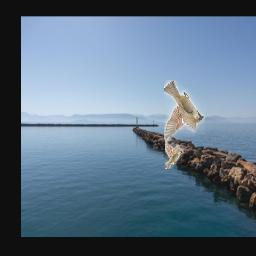Sparrow: (163, 81, 204, 142), (164, 140, 183, 169)
